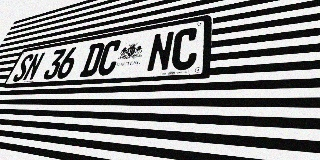3: (42, 48, 67, 80)
6: (55, 46, 81, 79)
C: (170, 27, 199, 71), (95, 39, 123, 76)
D: (79, 42, 106, 77)
N: (146, 31, 175, 72), (22, 52, 46, 81)
S: (11, 54, 35, 82)
